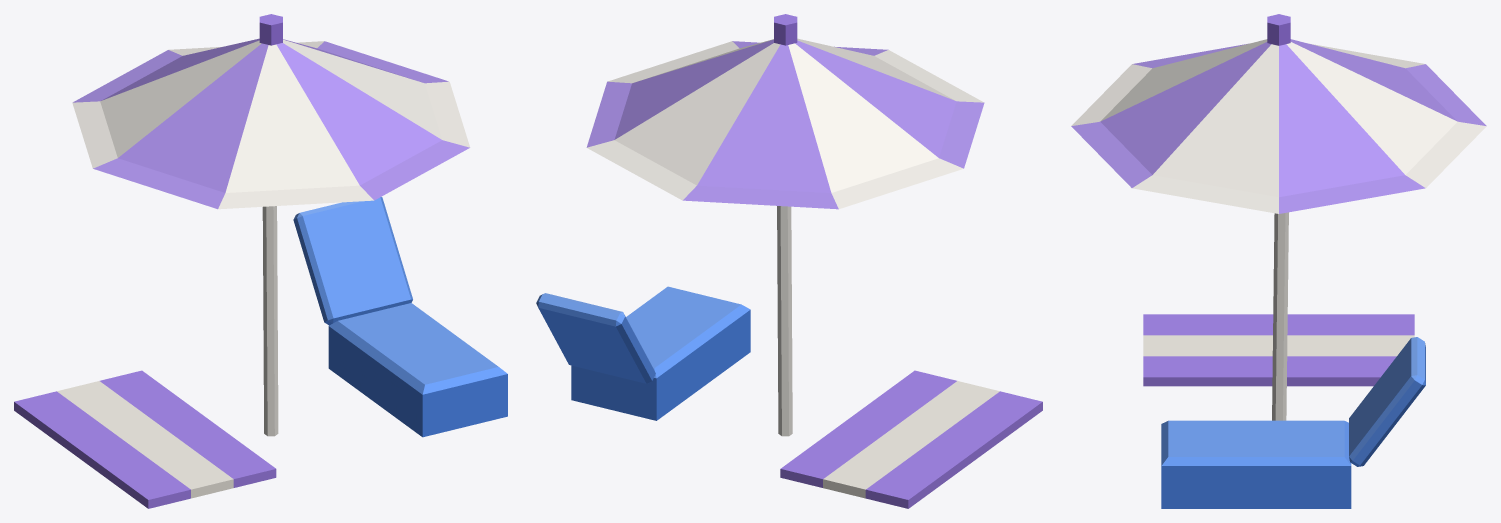
Rendered from BeachUmbrella_5.glb.
3 views of the same model, side by side, from view 1: azimuth 30°, elevation 25°; view 2: azimuth 150°, elevation 25°; view 3: azimuth 270°, elevation 25° (orthographic).
Parts seen in each view (by area): view 1: BeachUmbrella_5; view 2: BeachUmbrella_5; view 3: BeachUmbrella_5.
Boxes of the visible parts, x1,y1,x2,y2 form: BeachUmbrella_5: [14, 14, 507, 508]; BeachUmbrella_5: [536, 14, 1042, 508]; BeachUmbrella_5: [1071, 14, 1486, 508].
Bounding box in the file's own units: 9.5 × 10.2 × 9.2.
Materials: 1 (1 with a texture image).
